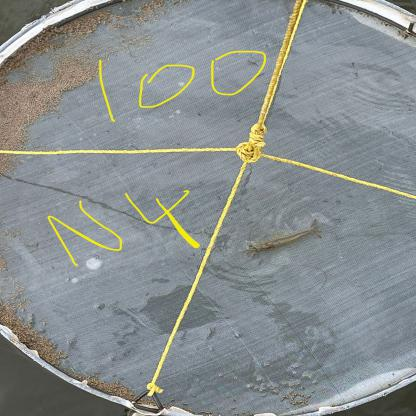shrimp: (242, 219, 325, 257)
